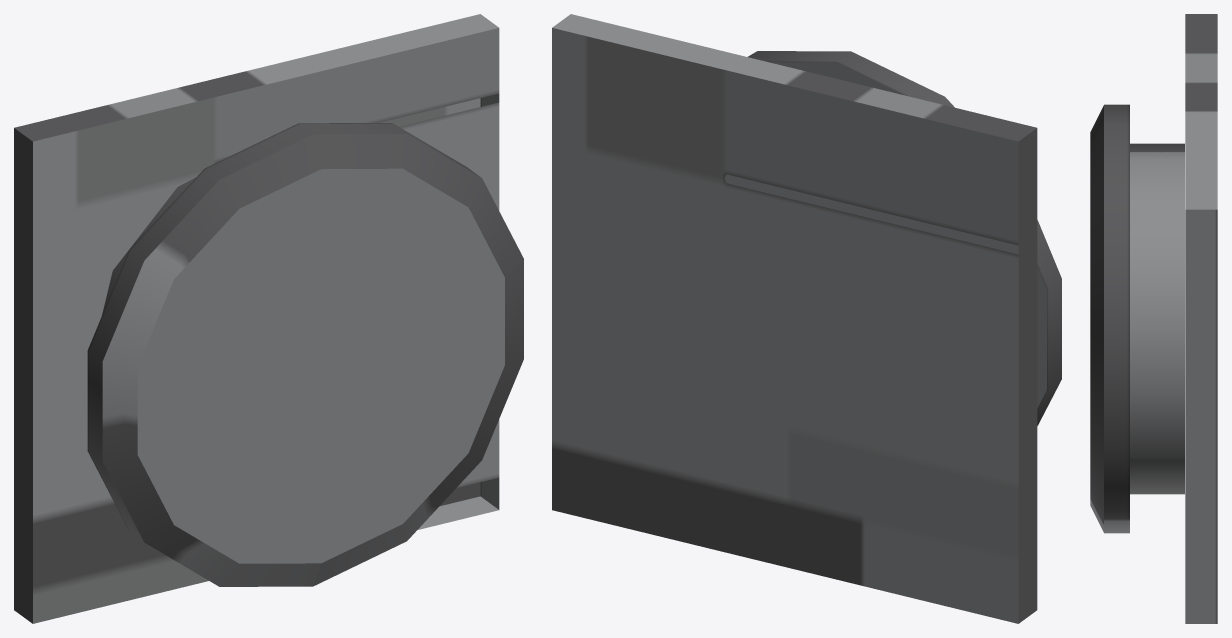
3 views of the same model, side by side, from view 1: azimuth 30°, elevation 25°; view 2: azimuth 150°, elevation 25°; view 3: azimuth 270°, elevation 25° (orthographic). The views are drawn at different scales.
Bounding box in the file's own units: 0.842 × 0.832 × 0.2315.
